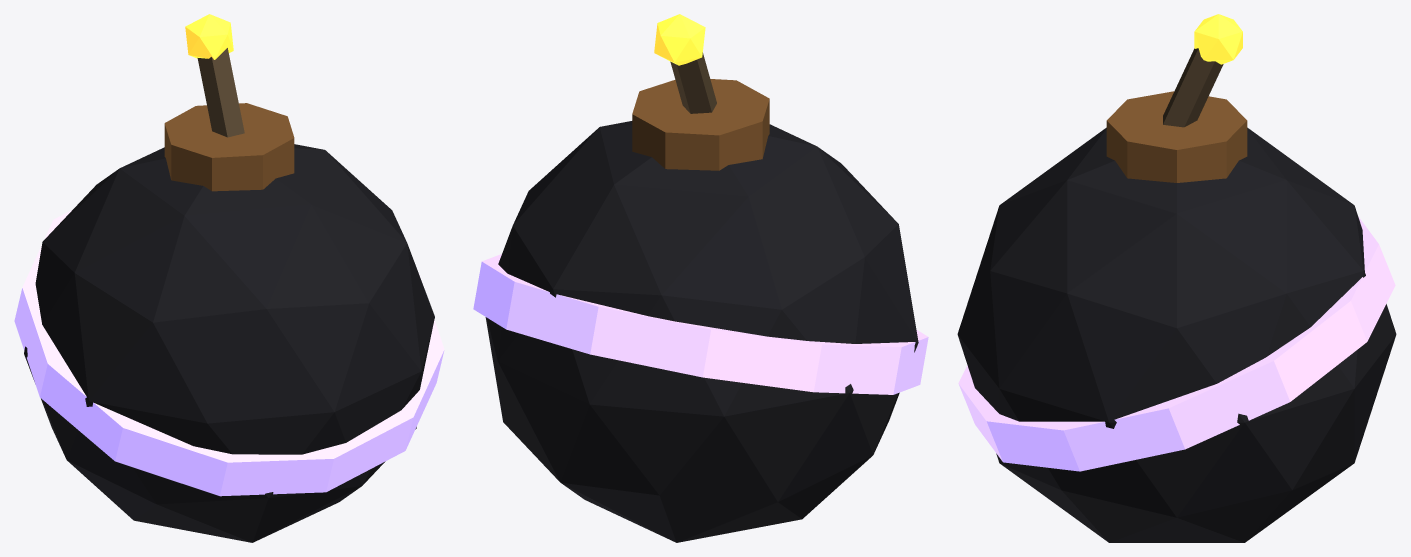
Rendered from projectile_bomb_cluster.glb.
The picture shows the model from 3 angles, left to right: view 1: azimuth 30°, elevation 25°; view 2: azimuth 150°, elevation 25°; view 3: azimuth 270°, elevation 25°; orthographic projection. The views are drawn at different scales.
Visible parts, largest first — view 1: BombCluster_Shell, BombCluster_RuneBand, BombCluster_FuseCap, BombCluster_Fuse, BombCluster_Spark; view 2: BombCluster_Shell, BombCluster_RuneBand, BombCluster_FuseCap, BombCluster_Spark, BombCluster_Fuse; view 3: BombCluster_Shell, BombCluster_RuneBand, BombCluster_FuseCap, BombCluster_Fuse, BombCluster_Spark.
Part boxes in pixels (left/top/right/bottom): BombCluster_Shell: left=24, top=144, right=434, bottom=542; BombCluster_RuneBand: left=14, top=209, right=444, bottom=496; BombCluster_FuseCap: left=164, top=103, right=294, bottom=191; BombCluster_Fuse: left=197, top=48, right=244, bottom=137; BombCluster_Spark: left=185, top=14, right=233, bottom=59; BombCluster_Shell: left=485, top=121, right=918, bottom=542; BombCluster_RuneBand: left=473, top=254, right=928, bottom=394; BombCluster_FuseCap: left=632, top=79, right=769, bottom=170; BombCluster_Spark: left=654, top=14, right=705, bottom=65; BombCluster_Fuse: left=670, top=52, right=716, bottom=113; BombCluster_Shell: left=957, top=127, right=1396, bottom=542; BombCluster_RuneBand: left=958, top=216, right=1395, bottom=471; BombCluster_FuseCap: left=1106, top=91, right=1247, bottom=182; BombCluster_Fuse: left=1163, top=48, right=1223, bottom=127; BombCluster_Spark: left=1194, top=14, right=1242, bottom=64.
Size of the model in its own units: 0.1224 by 0.1566 by 0.12.
